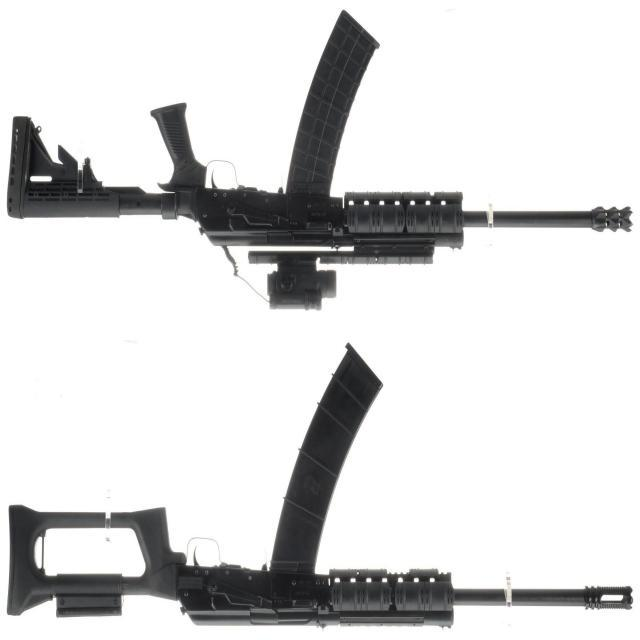weapon: (6, 8, 633, 312), (8, 336, 634, 632)
